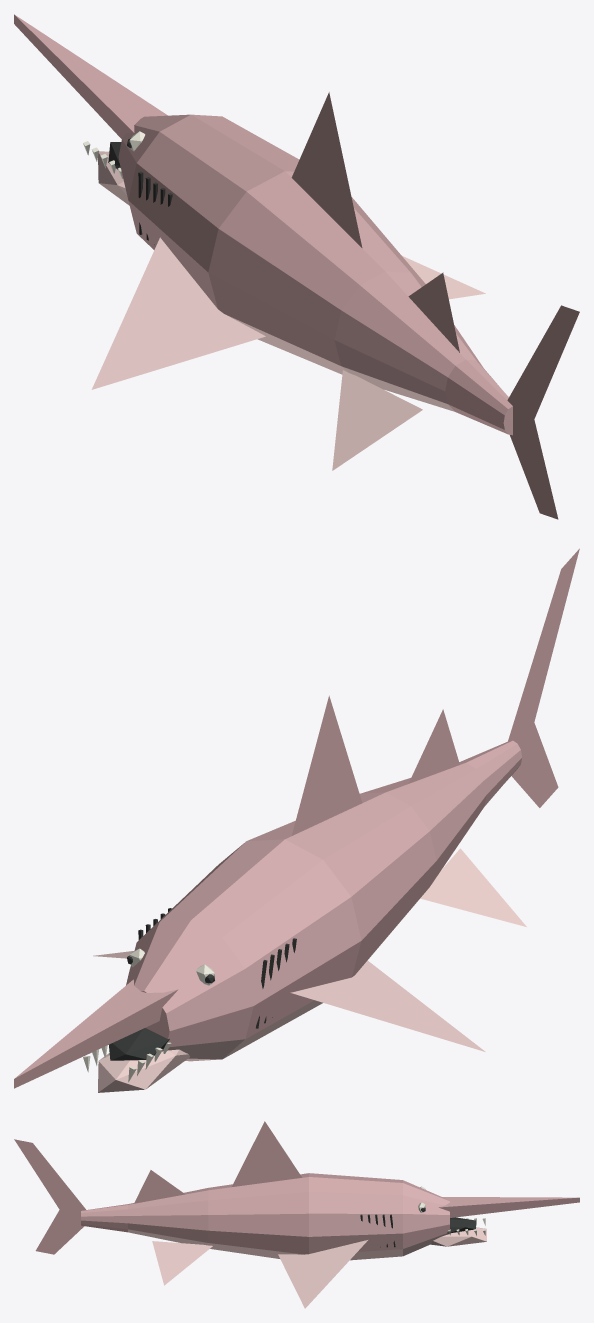
The model's file is GoblinShark.fbx.
The picture shows the model from 3 angles, top to bottom: view 1: azimuth 30°, elevation 25°; view 2: azimuth 150°, elevation 25°; view 3: azimuth 270°, elevation 25°; orthographic projection. The views are drawn at different scales.
Visible parts, largest first — view 1: Body, Pectoral1, TailFin, LongSnout, Dorsal, Pelvic1, RearDorsal, Pectoral-1, LowerJaw; view 2: Body, TailFin, Pectoral1, LongSnout, Dorsal, Pelvic1, LowerJaw, RearDorsal, Gape; view 3: Body, TailFin, Pectoral-1, Dorsal, LongSnout, Pelvic-1, RearDorsal, LowerJaw, Gape.
Part boxes in pixels (x1,y1,x2,y2): Body: (118,114,512,435); Pectoral1: (91,237,265,389); TailFin: (507,305,579,519); LongSnout: (14,14,167,139); Dorsal: (291,92,362,247); Pelvic1: (332,370,422,470); RearDorsal: (408,272,459,352); Pectoral-1: (402,256,485,299); LowerJaw: (98,151,129,205); Body: (126,740,522,1061); TailFin: (507,548,579,807); Pectoral1: (290,960,485,1051); LongSnout: (14,979,178,1088); Dorsal: (291,695,362,835); Pelvic1: (420,848,526,926); LowerJaw: (98,1049,189,1092); RearDorsal: (408,709,459,783); Gape: (109,1028,169,1060); Body: (81,1173,449,1260); TailFin: (14,1139,86,1254); Pectoral-1: (278,1240,367,1308); Dorsal: (232,1121,302,1186); LongSnout: (438,1197,579,1217); Pelvic-1: (152,1241,212,1285); RearDorsal: (134,1170,185,1203); LowerJaw: (430,1227,486,1246); Gape: (447,1217,475,1233).
Bounding box in the file's own units: 1.7 × 1.16 × 4.22.
